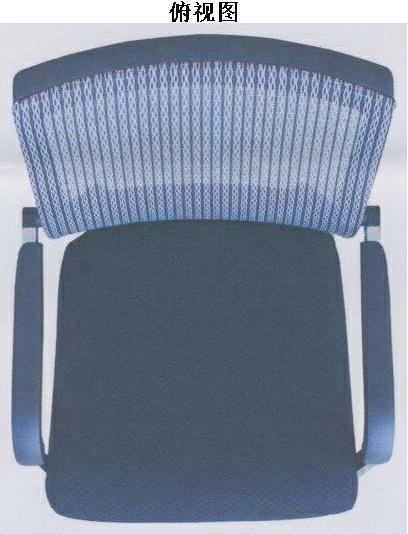obstacle: (12, 35, 393, 521)
